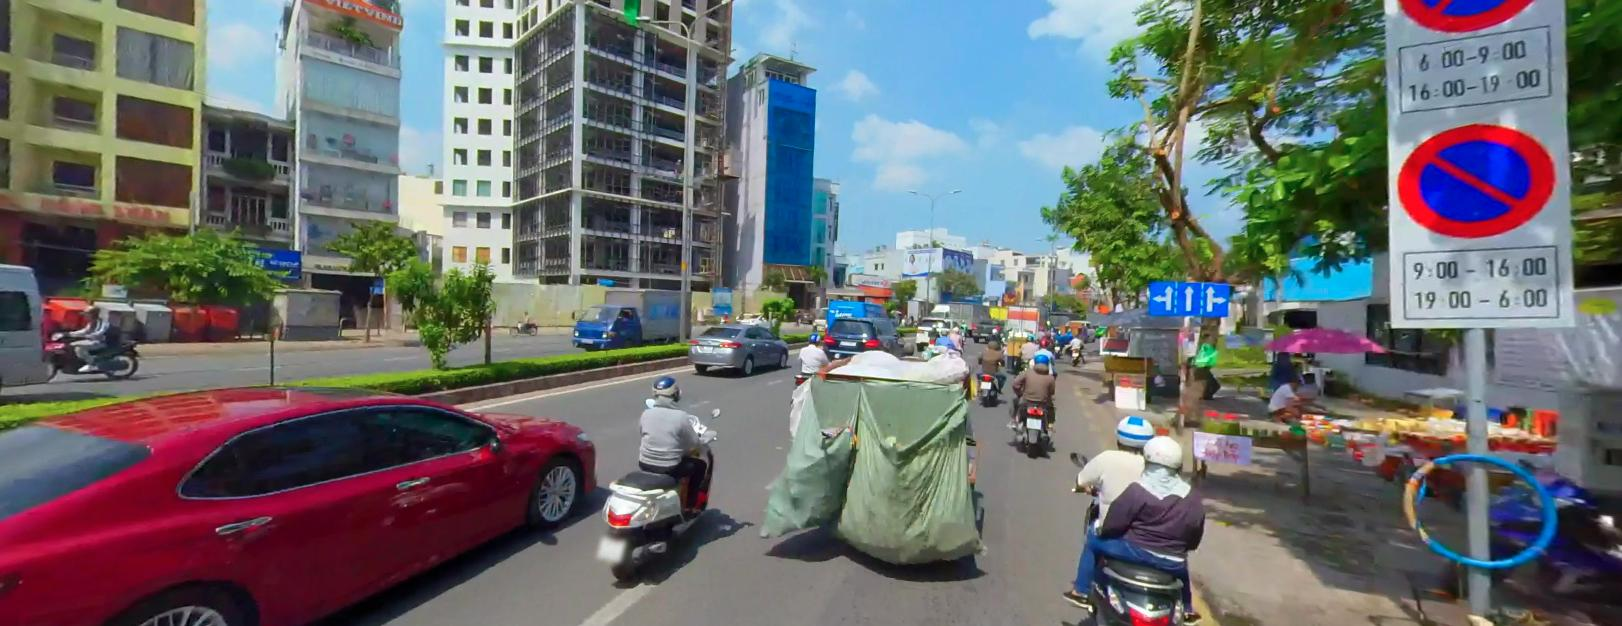Cam dung va do: (1396, 126, 1560, 237), (1390, 0, 1537, 31)
